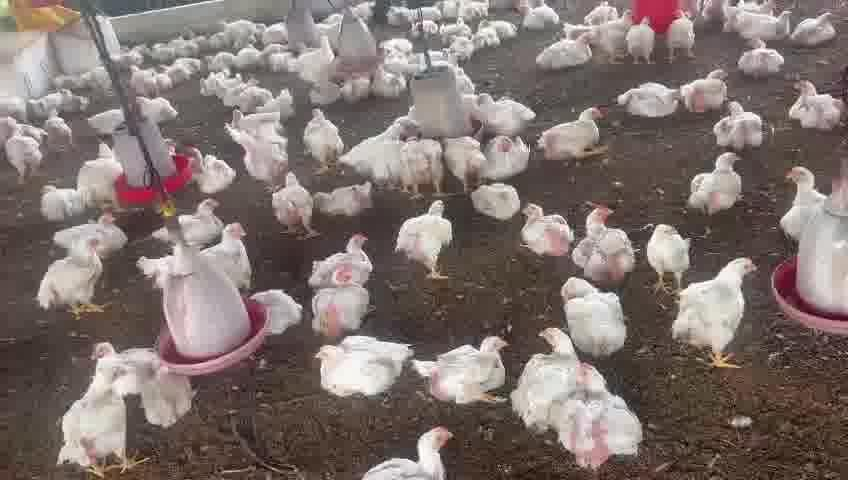AbNormal: (312, 183, 388, 221)
Normal: (669, 250, 759, 371), (56, 365, 159, 470), (566, 364, 644, 473), (408, 334, 509, 415), (520, 325, 584, 432), (309, 329, 403, 400), (41, 238, 124, 318), (553, 273, 626, 351), (298, 262, 372, 335), (400, 200, 465, 279), (684, 150, 746, 219), (199, 225, 265, 289), (543, 101, 601, 171), (220, 120, 298, 172), (580, 204, 630, 283), (264, 165, 318, 235), (775, 79, 846, 129), (640, 219, 696, 278), (475, 176, 531, 231), (519, 205, 573, 259), (310, 239, 377, 281), (184, 146, 238, 198), (173, 191, 226, 241), (301, 100, 344, 158), (630, 81, 686, 125), (401, 138, 444, 194), (531, 34, 596, 71), (71, 143, 121, 186), (716, 103, 759, 146), (740, 41, 782, 81), (629, 23, 660, 64), (750, 41, 761, 44)
